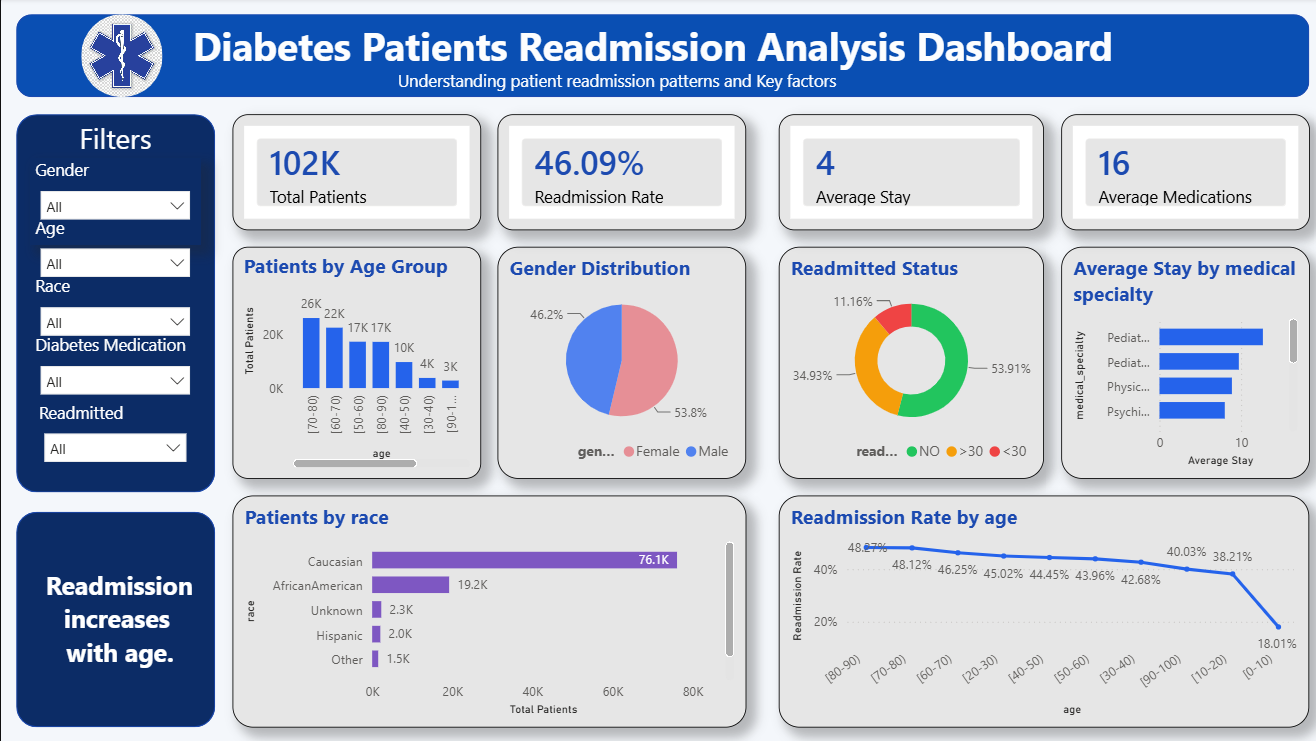

The page's visual inventory and layout, read from the dashboard file:
{"tool":"powerbi","page":{"name":"Page 1","canvas":[1280,720],"ordinal":0},"visuals":[{"type":"cardVisual","title":"Total Patients","fields":{"Data":["diabetic_data.Total Patients"]},"box":[224,112,240,112],"z":0},{"type":"clusteredColumnChart","title":"Patients by Age Group","fields":{"Category":["diabetic_data.age"],"Y":["diabetic_data.Total Patients"]},"box":[224,240,240,224],"z":1000},{"type":"pieChart","title":"Gender Distribution","fields":{"Category":["diabetic_data.gender"],"Y":["diabetic_data.Total Patients"]},"box":[480,240,240,224],"z":2000},{"type":"donutChart","title":"Readmitted Status","fields":{"Category":["diabetic_data.readmitted"],"Y":["diabetic_data.Total Patients"]},"box":[752,240,256,224],"z":3000},{"type":"clusteredBarChart","title":"Patients by race","fields":{"Category":["diabetic_data.race"],"Y":["diabetic_data.Total Patients"]},"box":[224,480,496,224],"z":4000},{"type":"barChart","title":"Average Stay by medical specialty","fields":{"Category":["diabetic_data.medical_specialty"],"Y":["diabetic_data.Average Stay"]},"box":[1024,240,240,224],"z":5000},{"type":"lineChart","fields":{"Category":["diabetic_data.age"],"Y":["diabetic_data.Readmission Rate"]},"box":[752,480,512,224],"z":6000},{"type":"group","id":"g1","title":"Group 1","box":[16,16,1248,80],"z":7000},{"type":"group","id":"g2","title":"Group 2","box":[16,112,192,365],"z":8000},{"type":"cardVisual","title":"Readmission Rate","fields":{"Data":["diabetic_data.Readmission Rate"]},"box":[480,112,240,112],"z":9000},{"type":"cardVisual","title":"Average Stay","fields":{"Data":["diabetic_data.Average Stay"]},"box":[752,112,256,112],"z":10000},{"type":"cardVisual","title":"Average Medications","fields":{"Data":["diabetic_data.Average Medications"]},"box":[1024,112,240,112],"z":11000},{"type":"shape","box":[16,496,192,208],"z":12000},{"type":"shape","box":[16,112,192,365],"z":13000,"group":"g2"},{"type":"textbox","box":[32,528,160,176],"z":13000},{"type":"textbox","box":[32,112,160,48],"z":14000,"group":"g2"},{"type":"slicer","title":"Gender","fields":{"Values":["diabetic_data.gender"]},"box":[29.7,154.1,164.6,84.2],"z":15000,"group":"g2"},{"type":"shape","box":[16,16,1248,80],"z":16000,"group":"g1"},{"type":"slicer","title":"Age","fields":{"Values":["diabetic_data.age"]},"box":[29.7,210.3,164.6,84.2],"z":16000,"group":"g2"},{"type":"textbox","box":[181.8,16,916.4,80],"z":17000,"group":"g1"},{"type":"slicer","title":"Race","fields":{"Values":["diabetic_data.race"]},"box":[29.7,266.4,164.6,84.2],"z":17000,"group":"g2"},{"type":"textbox","box":[379.4,64,774.2,32],"z":18000,"group":"g1"},{"type":"slicer","title":"Diabetes Medication","fields":{"Values":["diabetic_data.diabetesMed"]},"box":[29.7,322.6,164.6,84.2],"z":18000,"group":"g2"},{"type":"slicer","title":"Readmitted","fields":{"Values":["diabetic_data.readmitted"]},"box":[33.5,388.2,157.1,78.9],"z":19000,"group":"g2"},{"type":"image","box":[78.4,16,78,80],"z":20000,"group":"g1"}]}

Visuals, with their boxes in screenshot pixels (x1, y1, x2, y2), scaled from the page's 1280x720 canvas onto the 1316x741 screenshot:
"Total Patients" cardVisual: [230, 115, 477, 231]
"Patients by Age Group" clusteredColumnChart: [230, 247, 477, 478]
"Gender Distribution" pieChart: [494, 247, 740, 478]
"Readmitted Status" donutChart: [773, 247, 1036, 478]
"Patients by race" clusteredBarChart: [230, 494, 740, 725]
"Average Stay by medical specialty" barChart: [1053, 247, 1300, 478]
lineChart - diabetic_data.age x diabetic_data.Readmission Rate: [773, 494, 1300, 725]
"Group 1" group: [16, 16, 1300, 99]
"Group 2" group: [16, 115, 214, 491]
"Readmission Rate" cardVisual: [494, 115, 740, 231]
"Average Stay" cardVisual: [773, 115, 1036, 231]
"Average Medications" cardVisual: [1053, 115, 1300, 231]
shape: [16, 510, 214, 725]
shape: [16, 115, 214, 491]
textbox: [33, 543, 197, 725]
textbox: [33, 115, 197, 165]
"Gender" slicer: [31, 159, 200, 245]
shape: [16, 16, 1300, 99]
"Age" slicer: [31, 216, 200, 303]
textbox: [187, 16, 1129, 99]
"Race" slicer: [31, 274, 200, 361]
textbox: [390, 66, 1186, 99]
"Diabetes Medication" slicer: [31, 332, 200, 419]
"Readmitted" slicer: [34, 400, 196, 481]
image: [81, 16, 161, 99]
